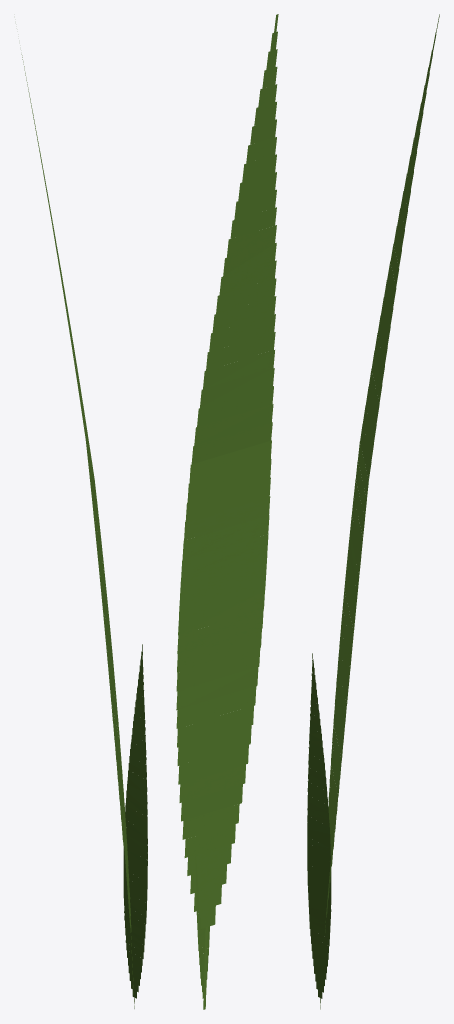
The model's file is maize_004_day_030.dae.
The picture shows the model from 3 angles, left to right: view 1: azimuth 90°, elevation 25°; view 2: azimuth 210°, elevation 25°; view 3: azimuth 270°, elevation 25°; orthographic projection. The views are drawn at different scales.
Visible parts, largest first — view 1: node; view 2: node; view 3: node.
Part boxes in pixels (x1,y1,x2,y2): node: (21, 54, 147, 1008); node: (176, 14, 278, 1009); node: (307, 14, 439, 1009).
Size of the model in its own units: 0.0166 by 0.1794 by 0.0218.
Materials: 1 (1 with a texture image).
